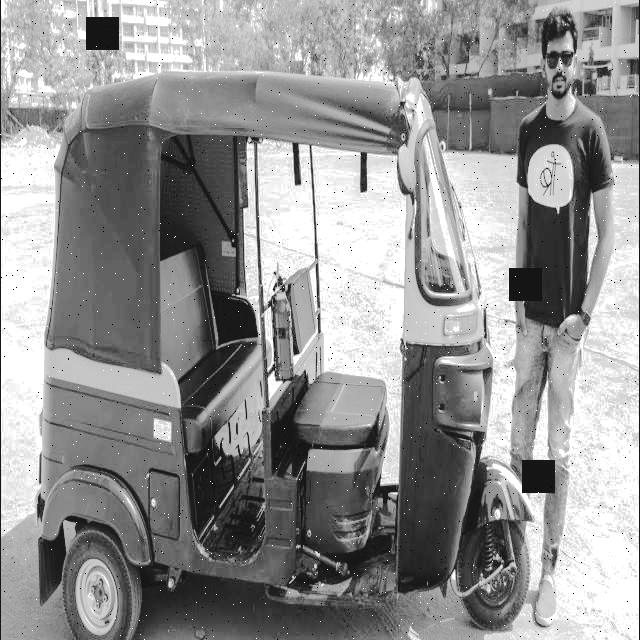Auto-Rickshaw: (42, 77, 546, 639)
